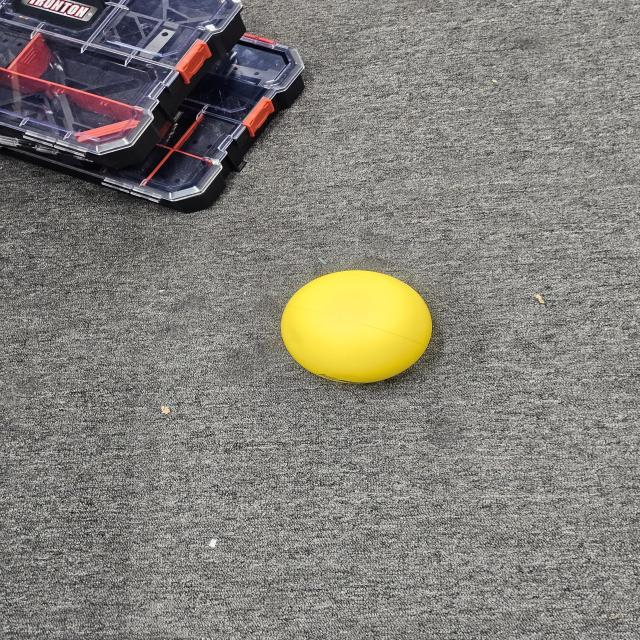Fuel: (274, 265, 441, 390)
